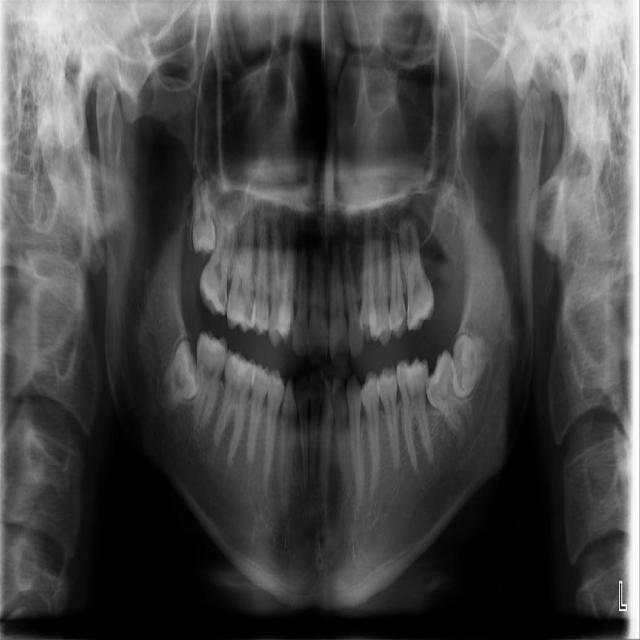impacted tooth: (424, 351, 479, 445), (158, 341, 202, 408), (454, 329, 491, 397), (192, 178, 215, 251)
